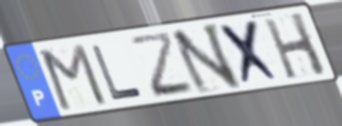H: (260, 10, 330, 81)
L: (88, 43, 146, 103)
M: (38, 42, 110, 113)
N: (167, 20, 244, 97)
X: (216, 18, 285, 88)
Z: (127, 29, 199, 100)
